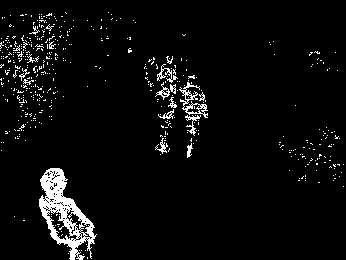person: (38, 168, 96, 259), (181, 73, 207, 159), (154, 79, 176, 155), (162, 54, 179, 94), (144, 56, 158, 86)
